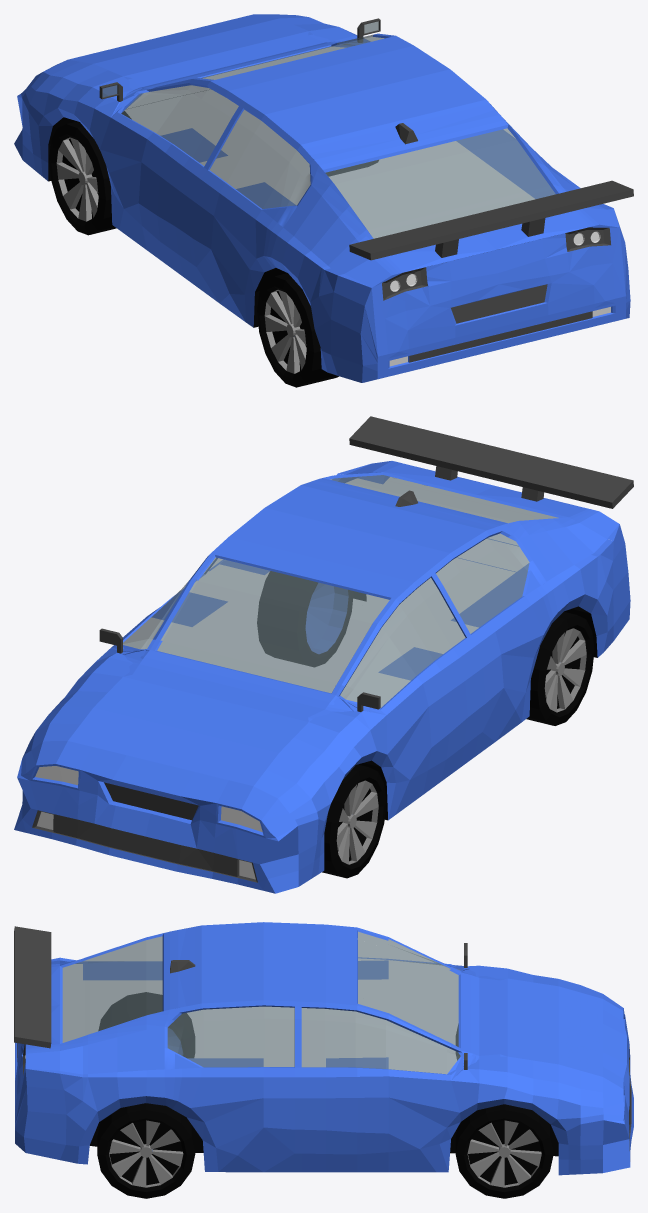
Rendered from car_model.glb.
The picture shows the model from 3 angles, top to bottom: view 1: azimuth 30°, elevation 25°; view 2: azimuth 150°, elevation 25°; view 3: azimuth 270°, elevation 25°; orthographic projection. The views are drawn at different scales.
Parts seen in each view (by area): view 1: Model (×3); view 2: Model (×4); view 3: Model (×4).
Boxes of the visible parts, box(x1,y1,x2,y2) form: Model (×3): box(14, 14, 633, 387); Model (×4): box(14, 416, 633, 893); Model (×4): box(14, 922, 633, 1198).
Bounding box in the file's own units: 229 × 156 × 488.
